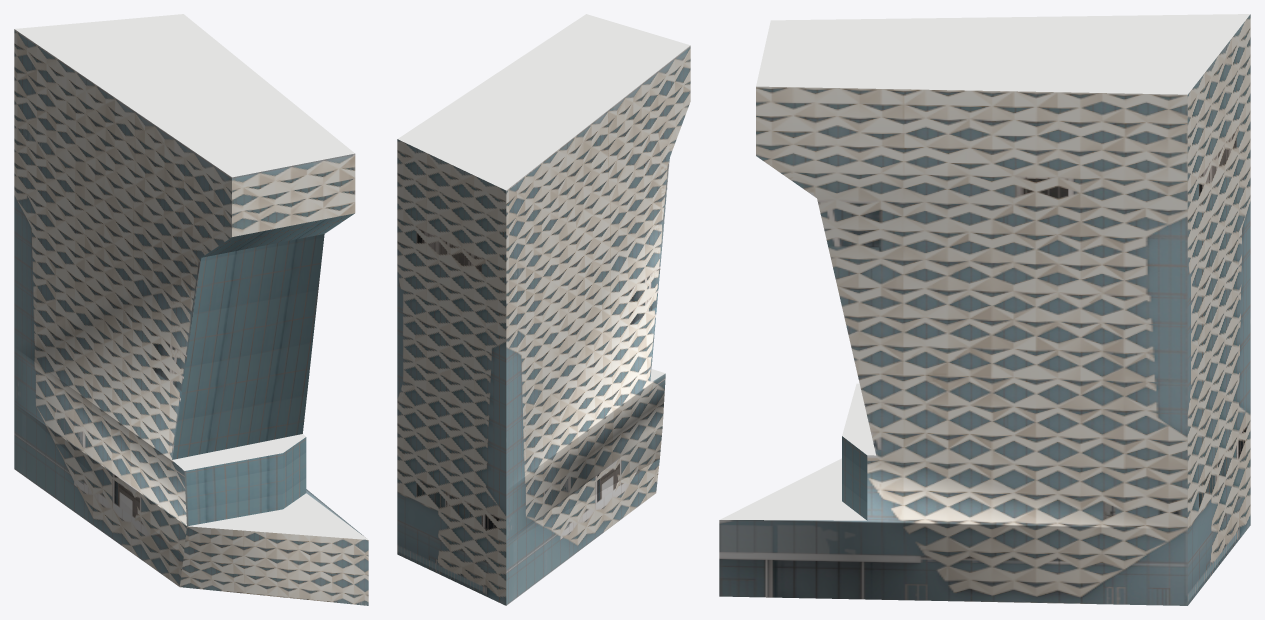
3 views of the same model, side by side, from view 1: azimuth 30°, elevation 25°; view 2: azimuth 150°, elevation 25°; view 3: azimuth 270°, elevation 25° (orthographic). The views are drawn at different scales.
Parts seen in each view (by area): view 1: 111B.COPY; view 2: 111B.COPY; view 3: 111B.COPY.
Part boxes in pixels (<box>): 111B.COPY: <box>14,14,368,605</box>; 111B.COPY: <box>397,14,690,605</box>; 111B.COPY: <box>719,14,1250,605</box>.
Bounding box in the file's own units: 26.65 × 78.76 × 74.17.
Materials: 1 (1 with a texture image).
